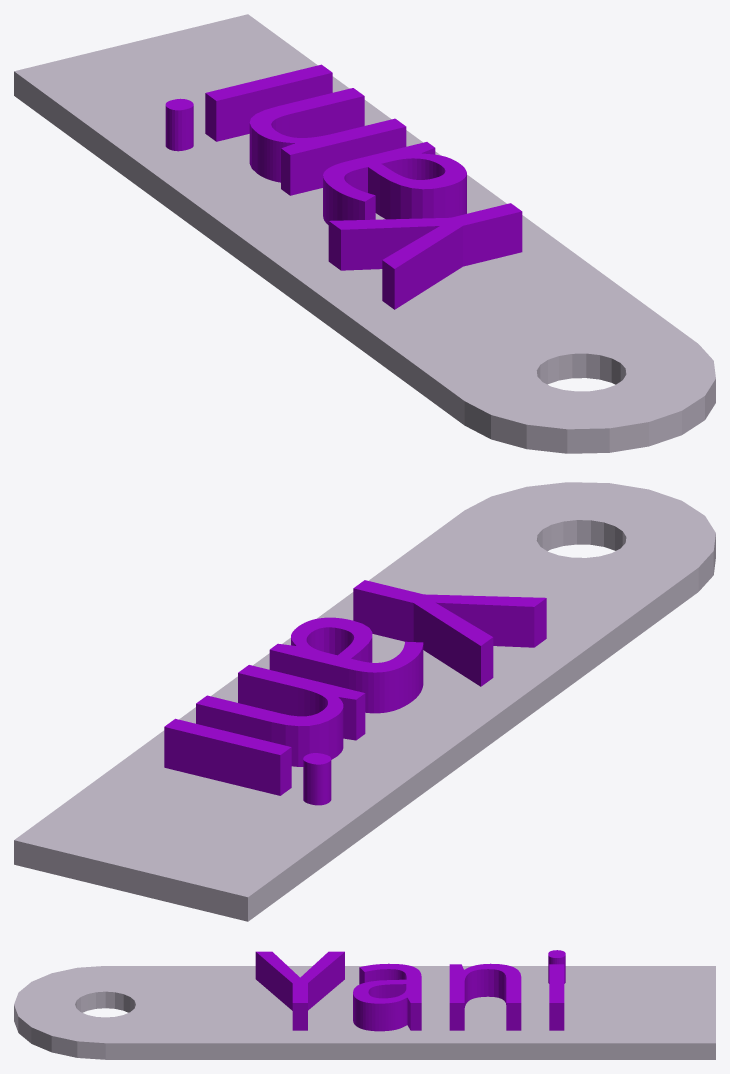
The model's file is asset.glb.
3 renders of one model, top to bottom at view 1: azimuth 30°, elevation 25°; view 2: azimuth 150°, elevation 25°; view 3: azimuth 270°, elevation 25°, orthographic. The views are drawn at different scales.
Parts seen in each view (by area): view 1: Mesh_Mesh_head_geo.001_lambert2SG.001; view 2: Mesh_Mesh_head_geo.001_lambert2SG.001; view 3: Mesh_Mesh_head_geo.001_lambert2SG.001.
Part boxes in pixels (left/top/right/bottom): Mesh_Mesh_head_geo.001_lambert2SG.001: left=14, top=14, right=715, bottom=453; Mesh_Mesh_head_geo.001_lambert2SG.001: left=14, top=482, right=715, bottom=921; Mesh_Mesh_head_geo.001_lambert2SG.001: left=14, top=950, right=715, bottom=1059.
Bounding box in the file's own units: 30 × 8 × 115.
